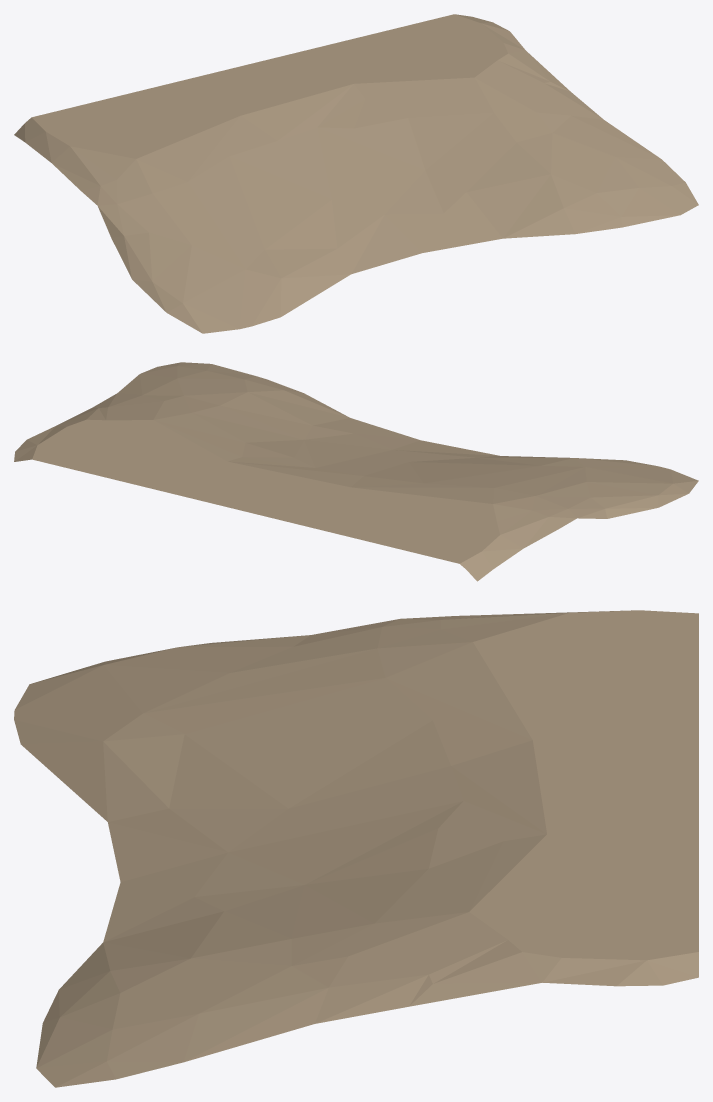
File: SM_Envr_Nature_Terrain_Ground_Beach_02.fbx
The picture shows the model from 3 angles, top to bottom: view 1: azimuth 30°, elevation 25°; view 2: azimuth 150°, elevation 25°; view 3: azimuth 270°, elevation 25°; orthographic projection. The views are drawn at different scales.
Parts seen in each view (by area): view 1: SM_Envr_Nature_Terrain_Ground_Beach_02; view 2: SM_Envr_Nature_Terrain_Ground_Beach_02; view 3: SM_Envr_Nature_Terrain_Ground_Beach_02.
Boxes of the visible parts, x1,y1,x2,y2 form: SM_Envr_Nature_Terrain_Ground_Beach_02: [14, 14, 698, 333]; SM_Envr_Nature_Terrain_Ground_Beach_02: [14, 362, 698, 581]; SM_Envr_Nature_Terrain_Ground_Beach_02: [14, 610, 698, 1087].
Size of the model in its own units: 4643 by 500 by 3198.
